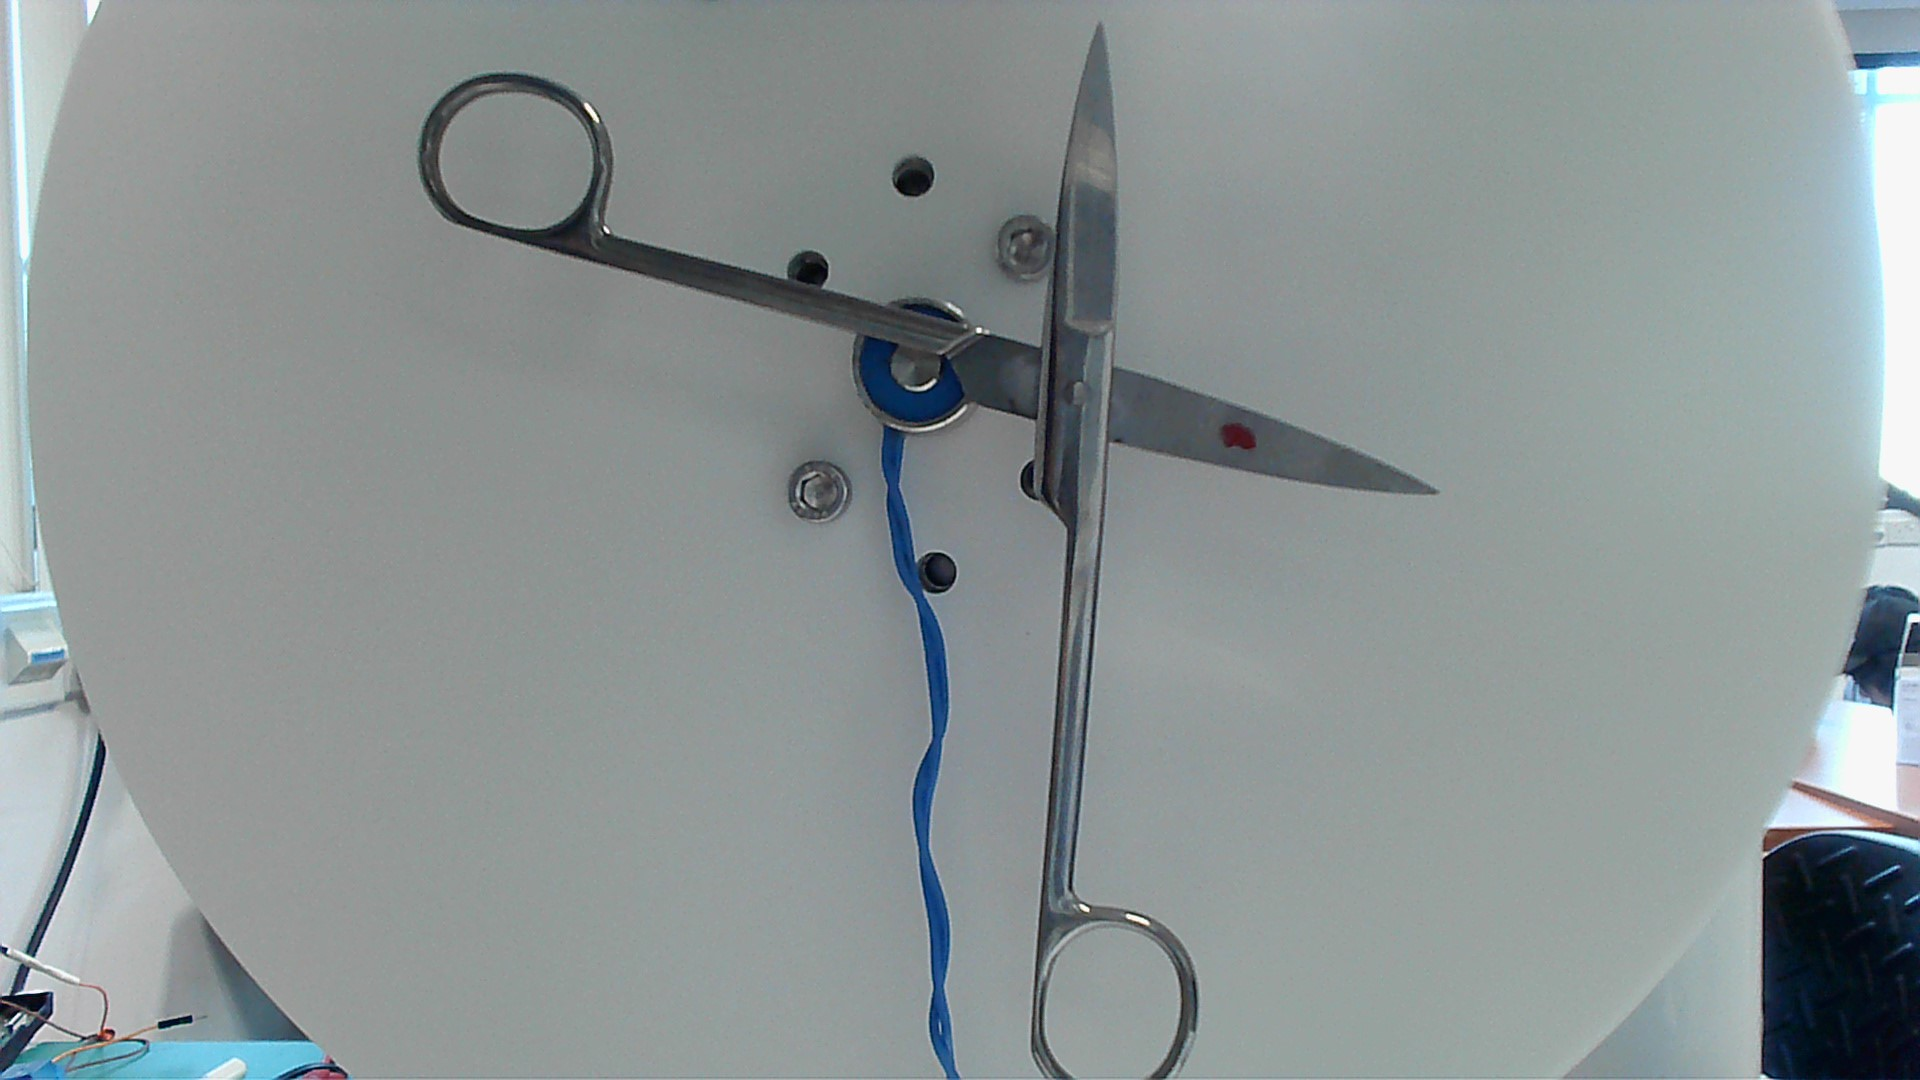Tissues: (1217, 419, 1258, 455)
